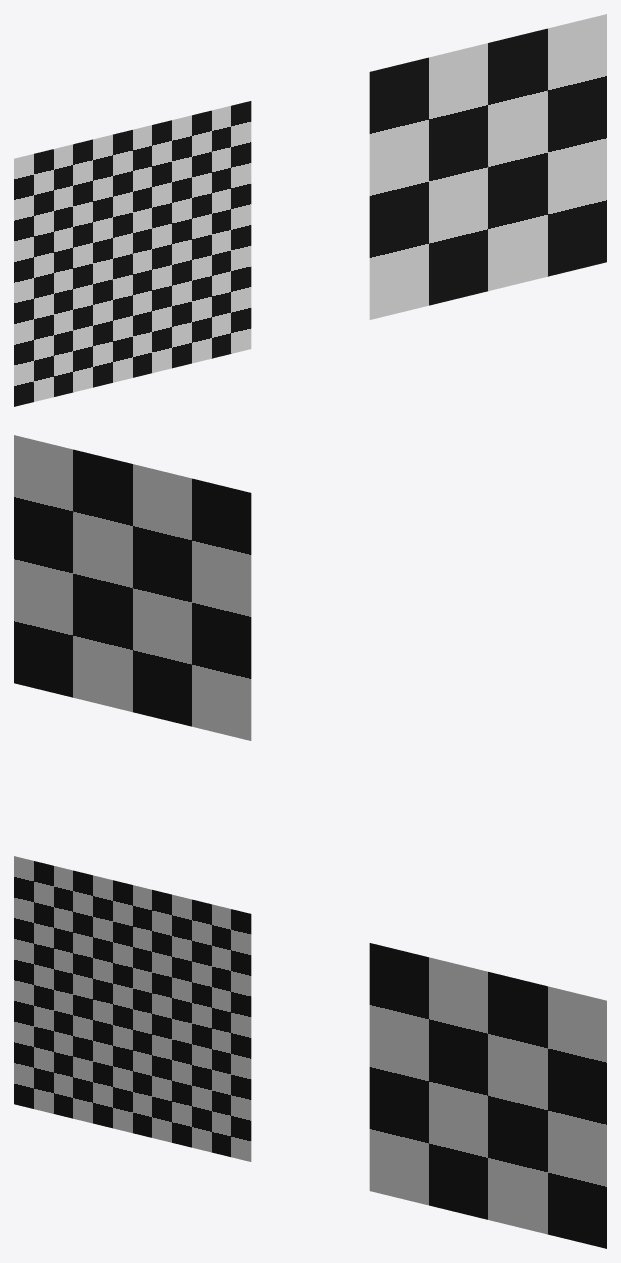
The model's file is tiled.glb.
3 views of the same model, one above another, from view 1: azimuth 30°, elevation 25°; view 2: azimuth 150°, elevation 25°; view 3: azimuth 330°, elevation 25° (orthographic).
Parts seen in each view (by area): view 1: tiled_ground, plain_ground; view 2: plain_ground; view 3: tiled_ground, plain_ground.
Boxes of the visible parts, left/top/right/bottom form: tiled_ground: left=14, top=101, right=251, bottom=406; plain_ground: left=369, top=14, right=606, bottom=319; plain_ground: left=14, top=435, right=251, bottom=740; tiled_ground: left=14, top=856, right=251, bottom=1161; plain_ground: left=369, top=943, right=606, bottom=1248.
Size of the model in its own units: 5 by 2 by 0.
Materials: 2 (2 with a texture image).
